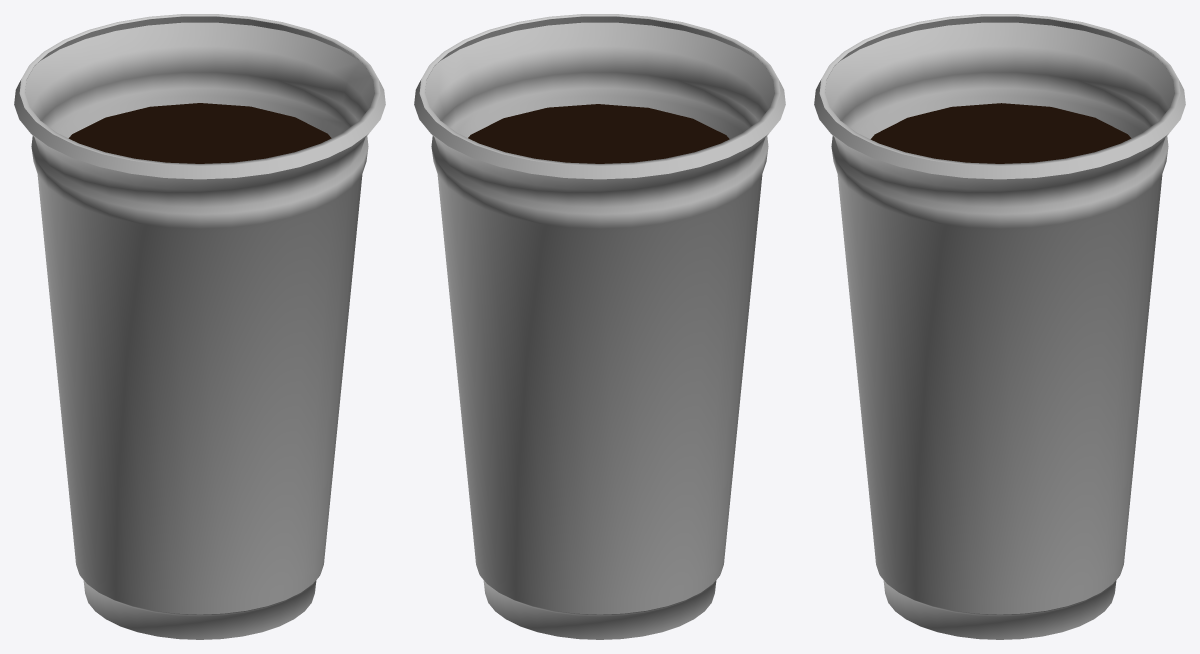
File: Cup.fbx
3 views of the same model, side by side, from view 1: azimuth 30°, elevation 25°; view 2: azimuth 150°, elevation 25°; view 3: azimuth 270°, elevation 25° (orthographic).
Parts seen in each view (by area): view 1: ExpressoPot_231; view 2: ExpressoPot_231; view 3: ExpressoPot_231.
Boxes of the visible parts, x1=… form: ExpressoPot_231: x1=14, y1=14, x2=385, y2=639; ExpressoPot_231: x1=414, y1=14, x2=785, y2=639; ExpressoPot_231: x1=814, y1=14, x2=1185, y2=639.
Bounding box in the file's own units: 0.3057 × 0.3061 × 0.4555.
